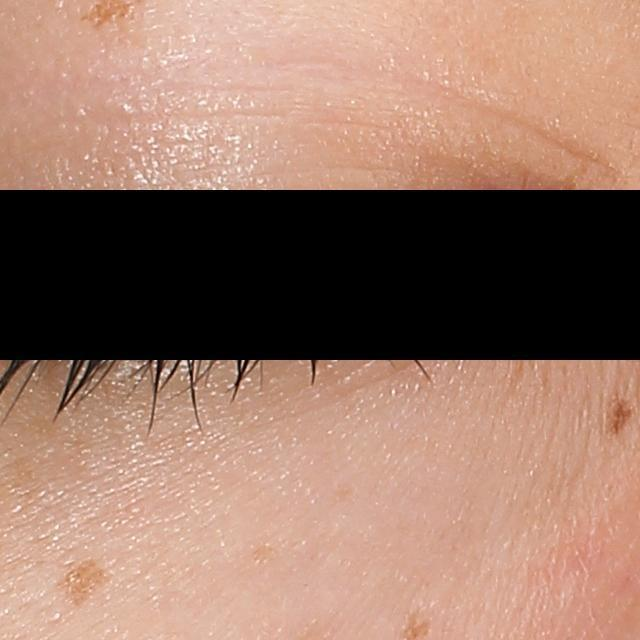melasma: (52, 555, 109, 612)
